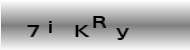7: (26, 23, 39, 38)
K: (74, 23, 90, 39)
R: (92, 16, 108, 28)
i: (46, 20, 53, 35)
y: (115, 26, 130, 40)
